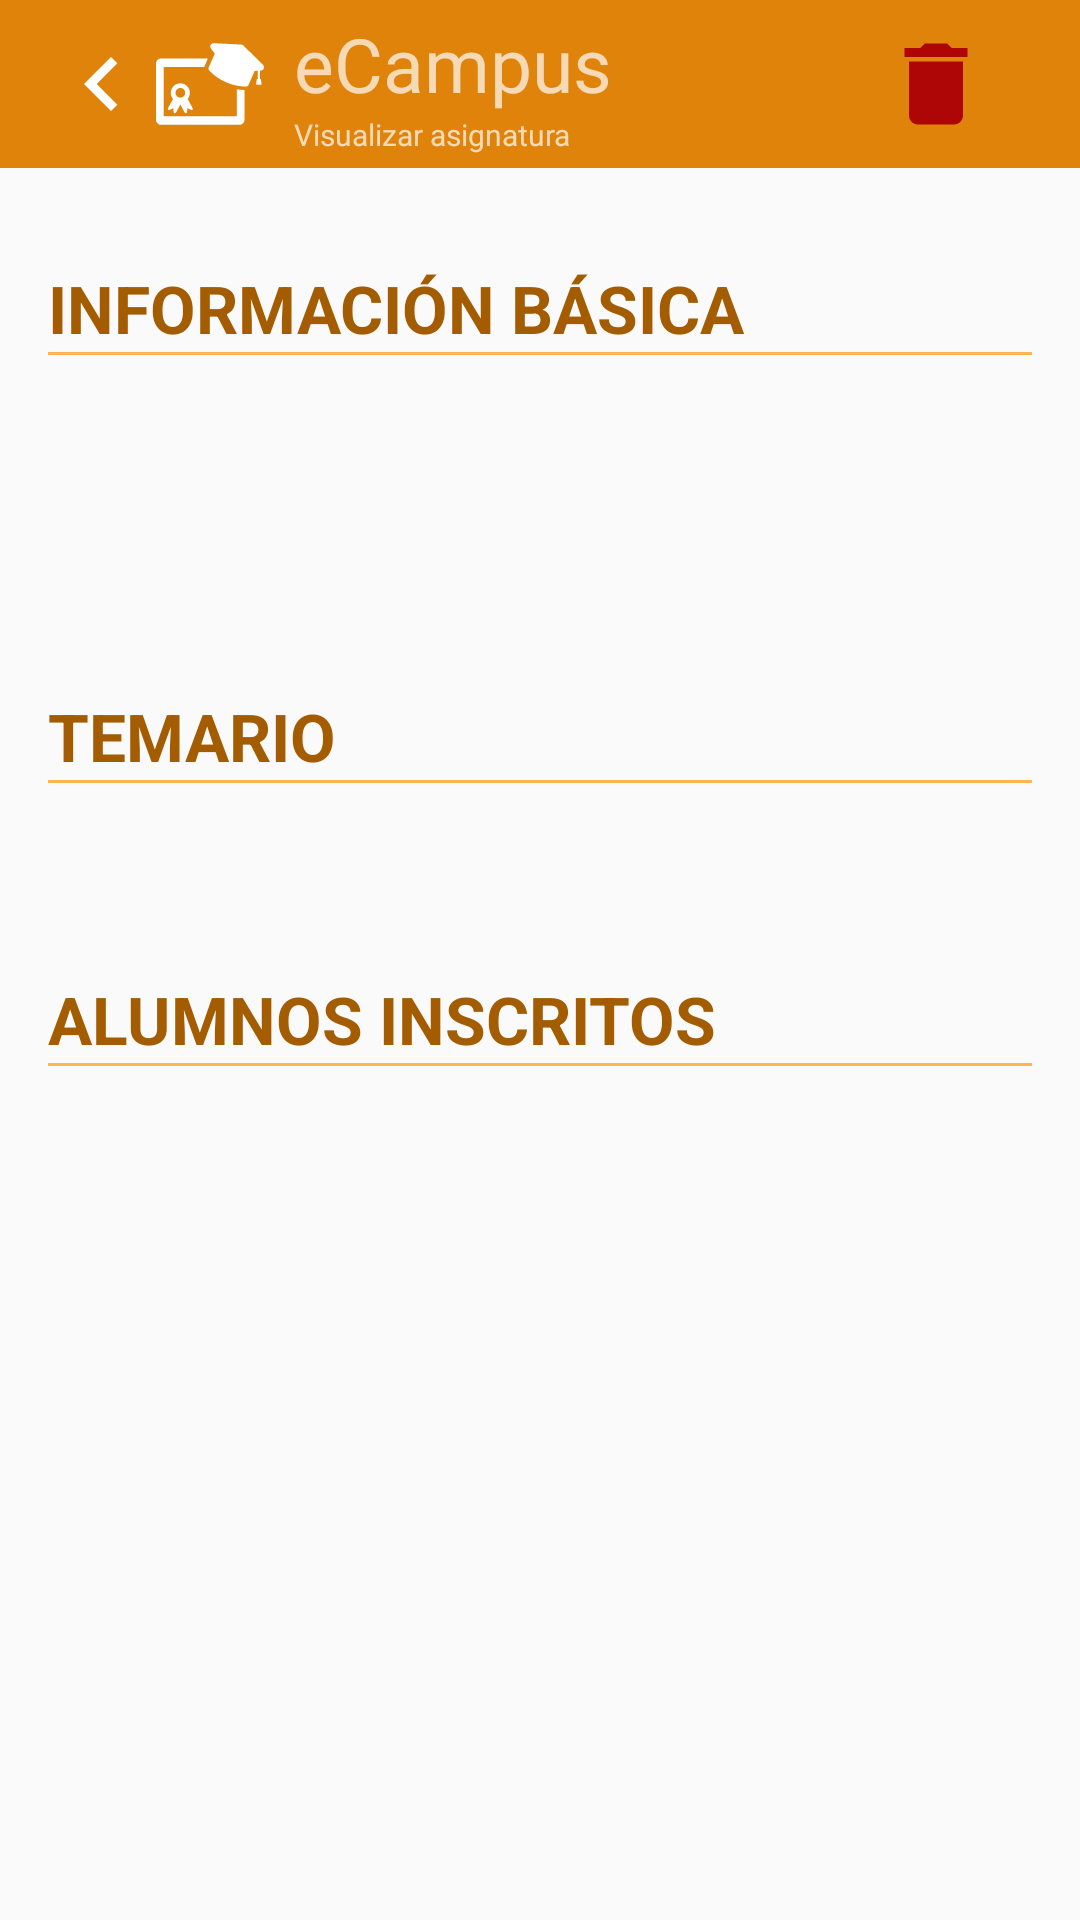

Icon bounding boxes for this 1080×1920 phone screenshot, format (x1, y1, x2, y2):
back toolbar: (84, 57, 118, 111)
delete toolbar: (904, 43, 968, 125)
